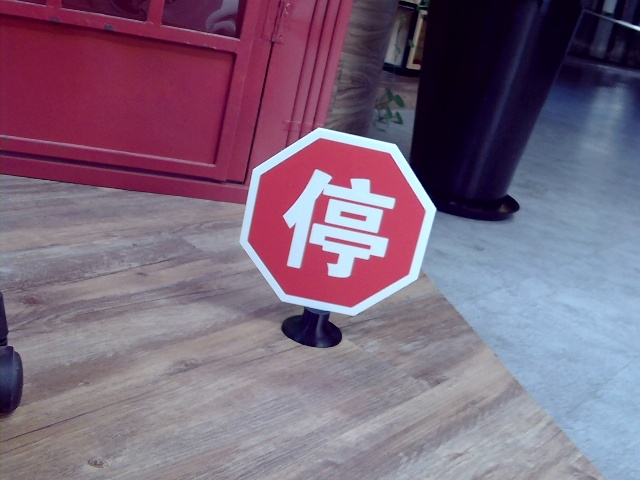stop: (277, 167, 391, 277)
